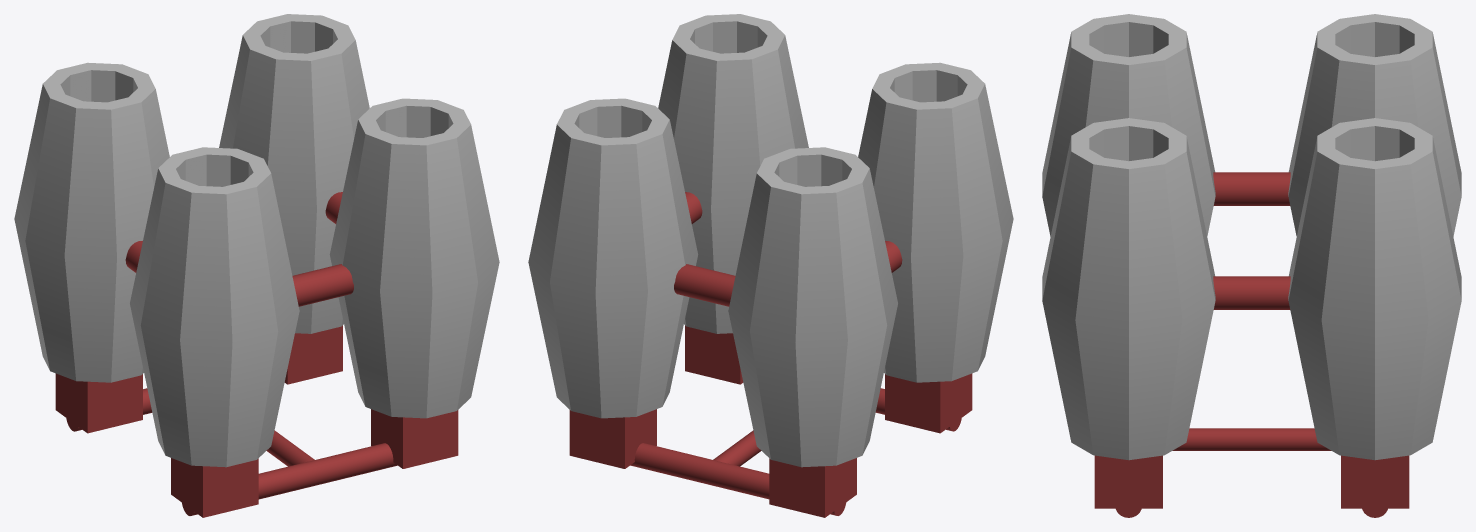
Rendered from HotAirBalloonBurner.fbx.
3 views of the same model, side by side, from view 1: azimuth 30°, elevation 25°; view 2: azimuth 150°, elevation 25°; view 3: azimuth 270°, elevation 25° (orthographic). The views are drawn at different scales.
Visible parts, largest first — view 1: Burner; view 2: Burner; view 3: Burner.
Boxes of the visible parts, left/top/right/bottom form: Burner: left=14, top=14, right=499, bottom=517; Burner: left=528, top=14, right=1013, bottom=517; Burner: left=1042, top=14, right=1461, bottom=517.
Bounding box in the file's own units: 244 × 226 × 239.
